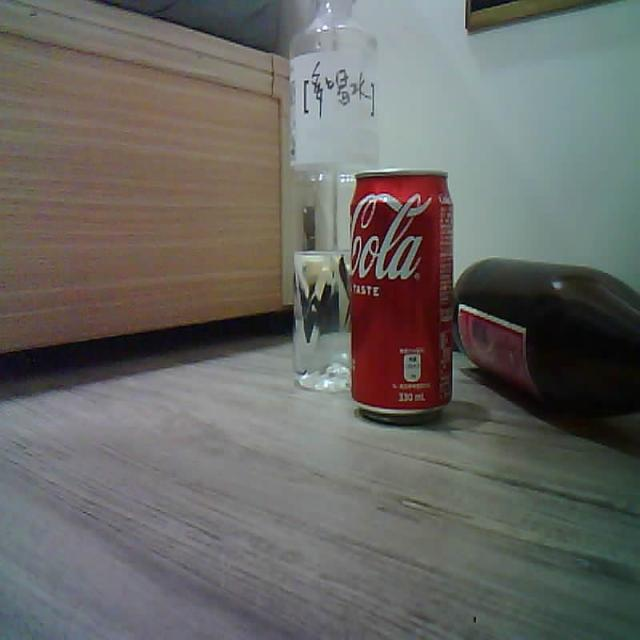bottle: (290, 0, 378, 389), (454, 258, 639, 410)
can: (350, 169, 453, 421)
